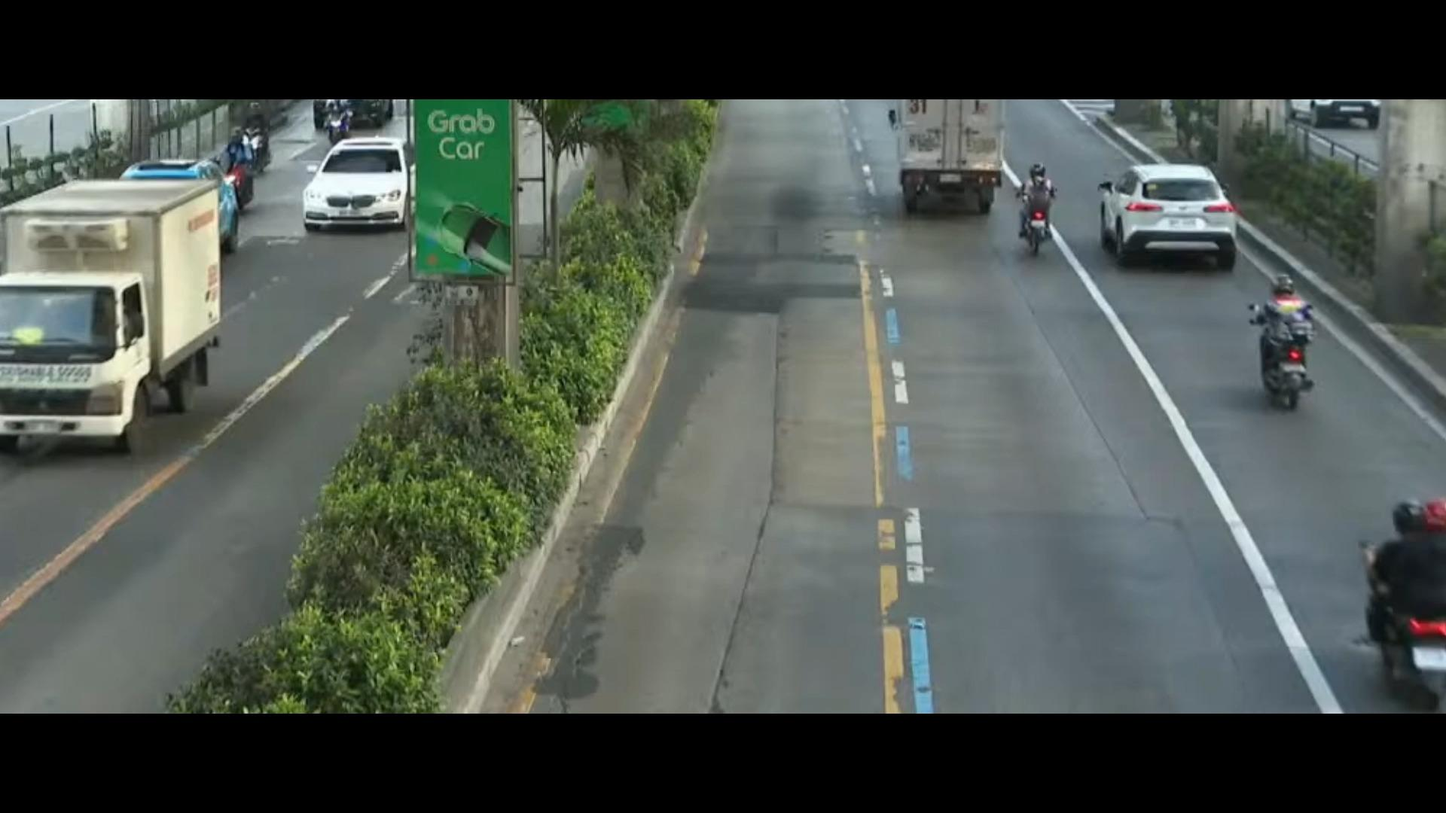Motorcycle: (1345, 473, 1446, 716), (1245, 264, 1332, 433), (998, 153, 1072, 275), (229, 108, 275, 197), (318, 100, 358, 153)
Sedan: (1093, 142, 1258, 289), (295, 130, 439, 248)
Truck: (0, 170, 247, 448), (876, 90, 1027, 234)
